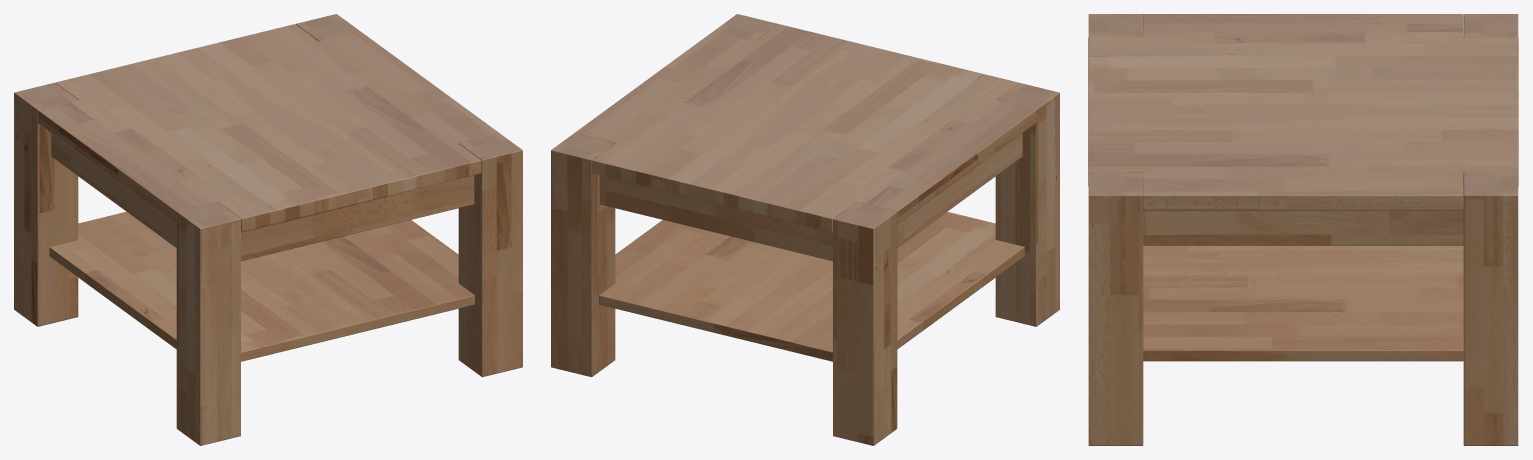
File: abo-B07K7LVMQ7.glb
3 views of the same model, side by side, from view 1: azimuth 30°, elevation 25°; view 2: azimuth 150°, elevation 25°; view 3: azimuth 270°, elevation 25° (orthographic). The views are drawn at different scales.
Size of the model in its own units: 0.7 by 0.451 by 0.7.
1 material, 1 textured.
